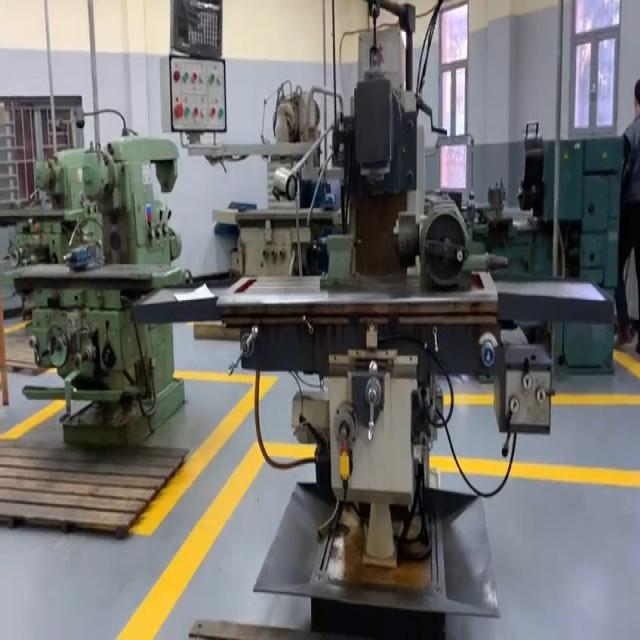fraiseuse: (137, 0, 620, 605)
